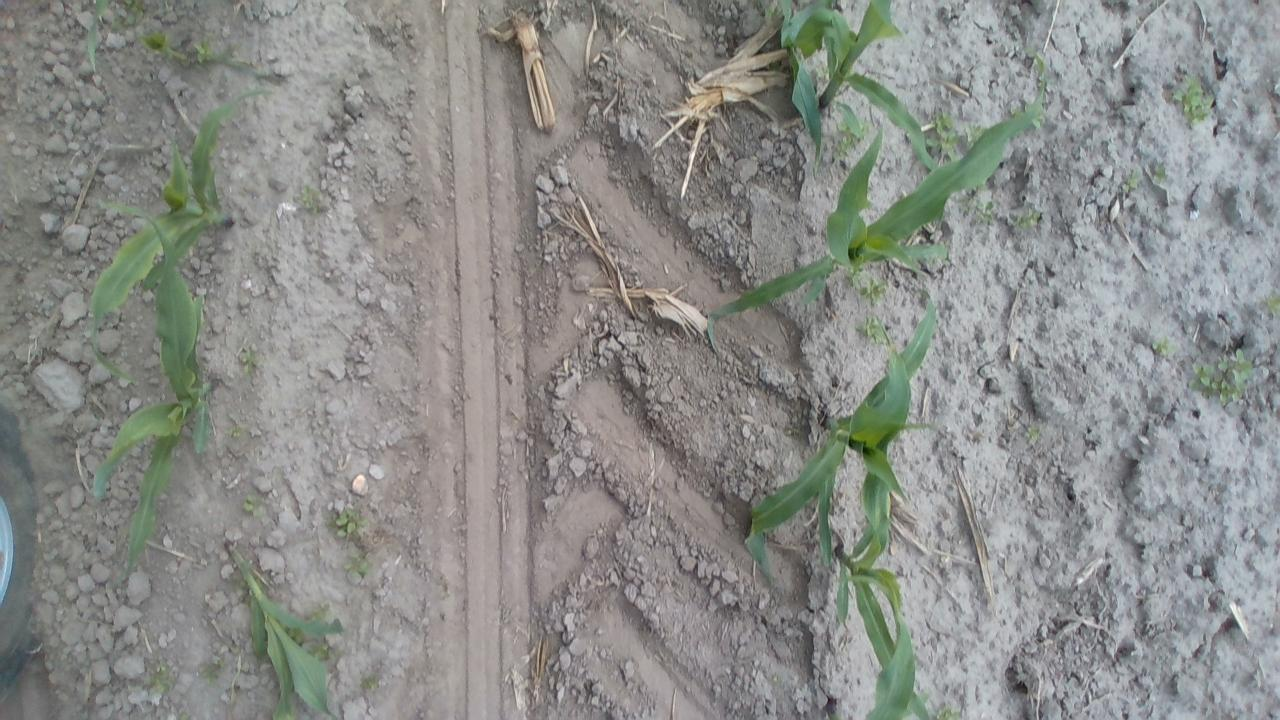Maize: (690, 55, 1066, 326), (82, 80, 290, 391), (736, 280, 940, 592), (94, 202, 226, 589), (816, 434, 934, 720), (768, 1, 939, 188), (223, 537, 350, 720), (137, 24, 258, 76)
Weeds: (1189, 344, 1256, 406), (1171, 74, 1215, 130), (928, 106, 964, 160), (855, 312, 898, 354), (330, 505, 371, 542), (855, 270, 889, 306), (964, 194, 998, 226), (114, 0, 146, 32), (295, 183, 327, 215), (144, 660, 172, 696), (237, 344, 262, 378), (1015, 206, 1046, 233), (832, 129, 858, 161), (342, 554, 376, 578), (199, 659, 226, 686), (1150, 336, 1178, 360), (354, 670, 382, 693), (306, 600, 335, 622), (242, 493, 264, 521), (931, 703, 969, 719), (964, 121, 988, 146), (759, 1, 781, 28), (1120, 170, 1142, 196), (1260, 288, 1280, 316), (1148, 166, 1174, 185), (223, 421, 246, 442), (817, 707, 857, 719), (1024, 422, 1042, 444), (167, 708, 196, 719)
